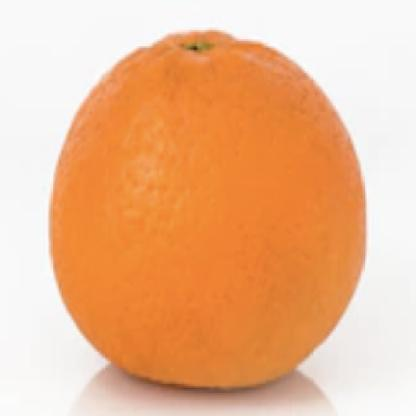fresh: (47, 28, 367, 389)
